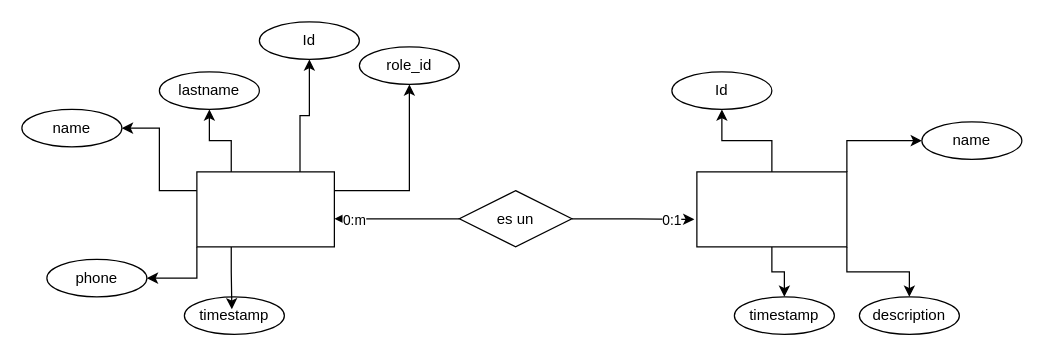
The diagram is 1044 pixels wide and 356 high, and some of its shapes have lost their labels. Each missing label, with the centre of its shape:
Role: the point at 771,209
user: the point at 265,209
